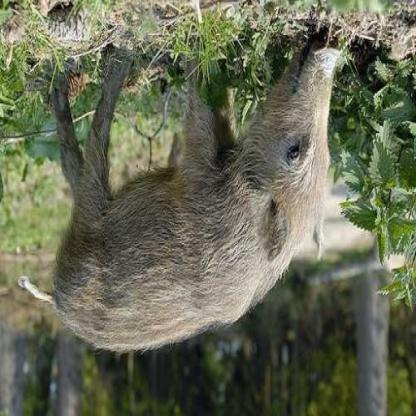boar: (19, 4, 358, 365)
